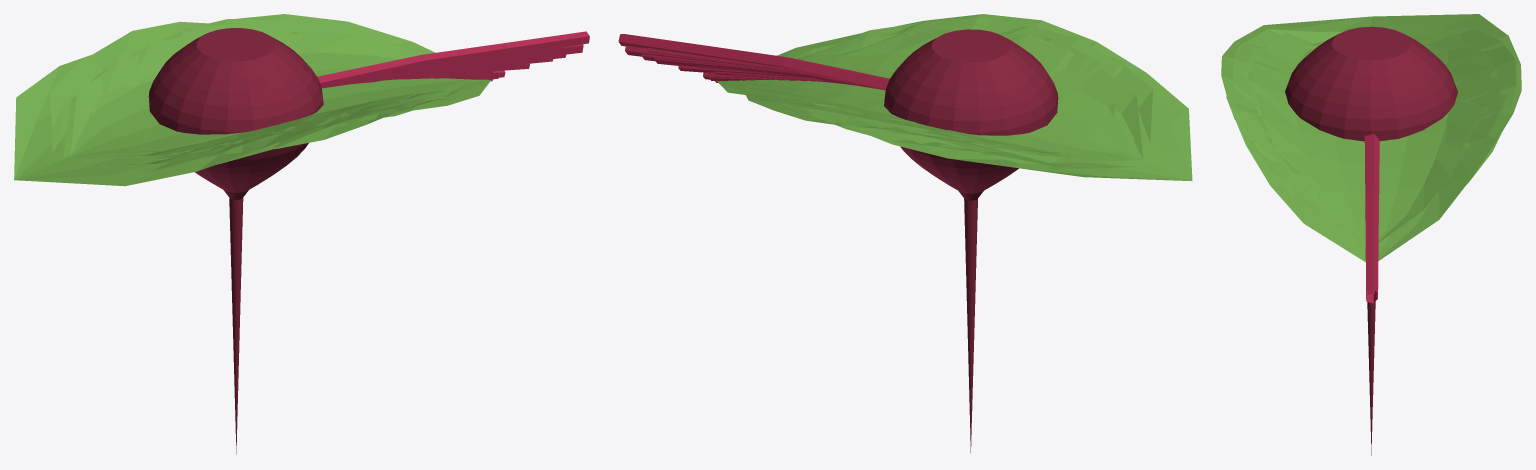
File: beetroot_harvest_v09.articulated.glb
The picture shows the model from 3 angles, left to right: view 1: azimuth 30°, elevation 25°; view 2: azimuth 150°, elevation 25°; view 3: azimuth 270°, elevation 25°; orthographic projection.
Visible parts, largest first — view 1: root, leaf11_link2, leaf10_link2, leaf04_link0, leaf00_link2, leaf09_link2, leaf04_link2, leaf02_link2, leaf07_link2, leaf08_link2, leaf10_link0; view 2: root, leaf11_link2, leaf10_link2, leaf04_link2, leaf04_link0, leaf09_link2, leaf00_link2, leaf02_link2, leaf08_link2, leaf05_link2, leaf03_link2, leaf10_link0 (+2 smaller); view 3: root, leaf11_link2, leaf10_link2, leaf04_link2, leaf08_link2, leaf04_link0, leaf00_link2, leaf09_link2, leaf02_link2, leaf07_link2, leaf05_link2, leaf03_link2 (+1 smaller).
Boxes of the visible parts, x1,y1,x2,y2 form: root: (148, 28, 323, 454); leaf11_link2: (70, 31, 467, 159); leaf10_link2: (14, 14, 492, 186); leaf04_link0: (317, 31, 589, 88); leaf00_link2: (91, 21, 448, 165); leaf09_link2: (52, 19, 459, 171); leaf04_link2: (63, 33, 444, 158); leaf02_link2: (50, 54, 414, 164); leaf07_link2: (101, 54, 397, 155); leaf08_link2: (61, 31, 343, 155); leaf10_link0: (358, 44, 583, 83); root: (884, 29, 1058, 452); leaf11_link2: (740, 29, 1135, 156); leaf10_link2: (715, 14, 1192, 181); leaf04_link2: (812, 34, 1143, 162); leaf04_link0: (618, 34, 889, 89); leaf09_link2: (751, 26, 1154, 169); leaf00_link2: (746, 22, 1152, 163); leaf02_link2: (747, 17, 1114, 168); leaf08_link2: (794, 37, 1107, 164); leaf05_link2: (836, 38, 1093, 150); leaf03_link2: (860, 43, 1114, 153); leaf10_link0: (625, 45, 885, 89); root: (1285, 26, 1457, 455); leaf11_link2: (1256, 34, 1472, 244); leaf10_link2: (1221, 14, 1521, 262); leaf04_link2: (1264, 31, 1490, 206); leaf08_link2: (1253, 36, 1483, 149); leaf04_link0: (1364, 133, 1379, 299); leaf00_link2: (1226, 29, 1516, 197); leaf09_link2: (1233, 30, 1507, 222); leaf02_link2: (1234, 28, 1503, 162); leaf07_link2: (1261, 47, 1481, 150); leaf05_link2: (1243, 51, 1500, 120); leaf03_link2: (1246, 45, 1497, 114).
Bounding box in the file's own units: 0.2291 × 0.157 × 0.1038.
1 material, 1 textured.
